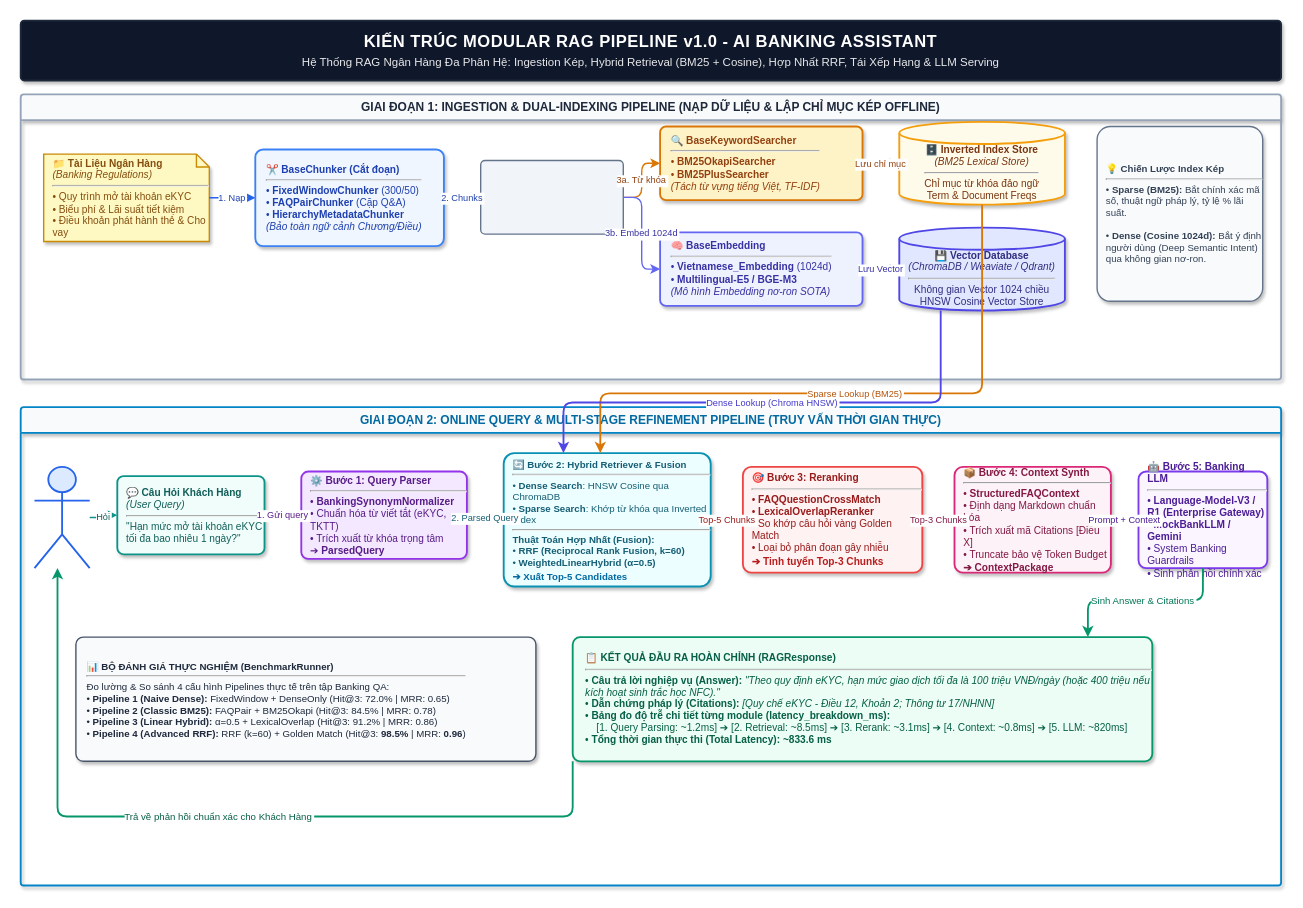
The diagram is 1303 pixels wide and 908 high, and some of its shapes have lost their labels. Here are the shapes that lost their labels. From the top down, the centre of each, then its label:
At point (552, 196): "📄 List[Chunk] • chunk_id, doc_id • text (đoạn nội dung) • metadata (breadcrumbs)".
At point (61, 517): "Khách Hàng (User)".
